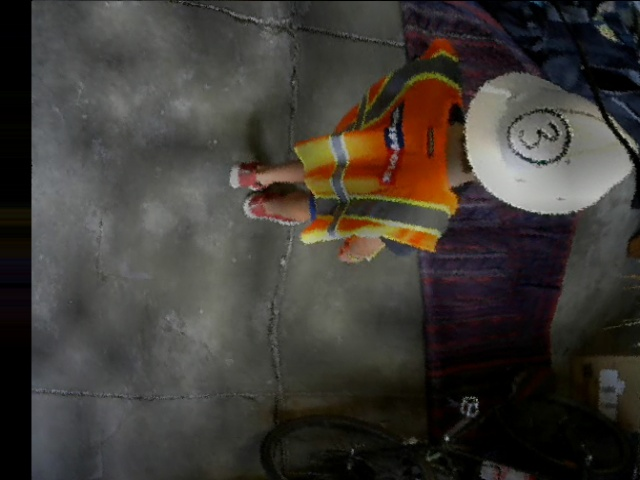three: (504, 108, 574, 165)
